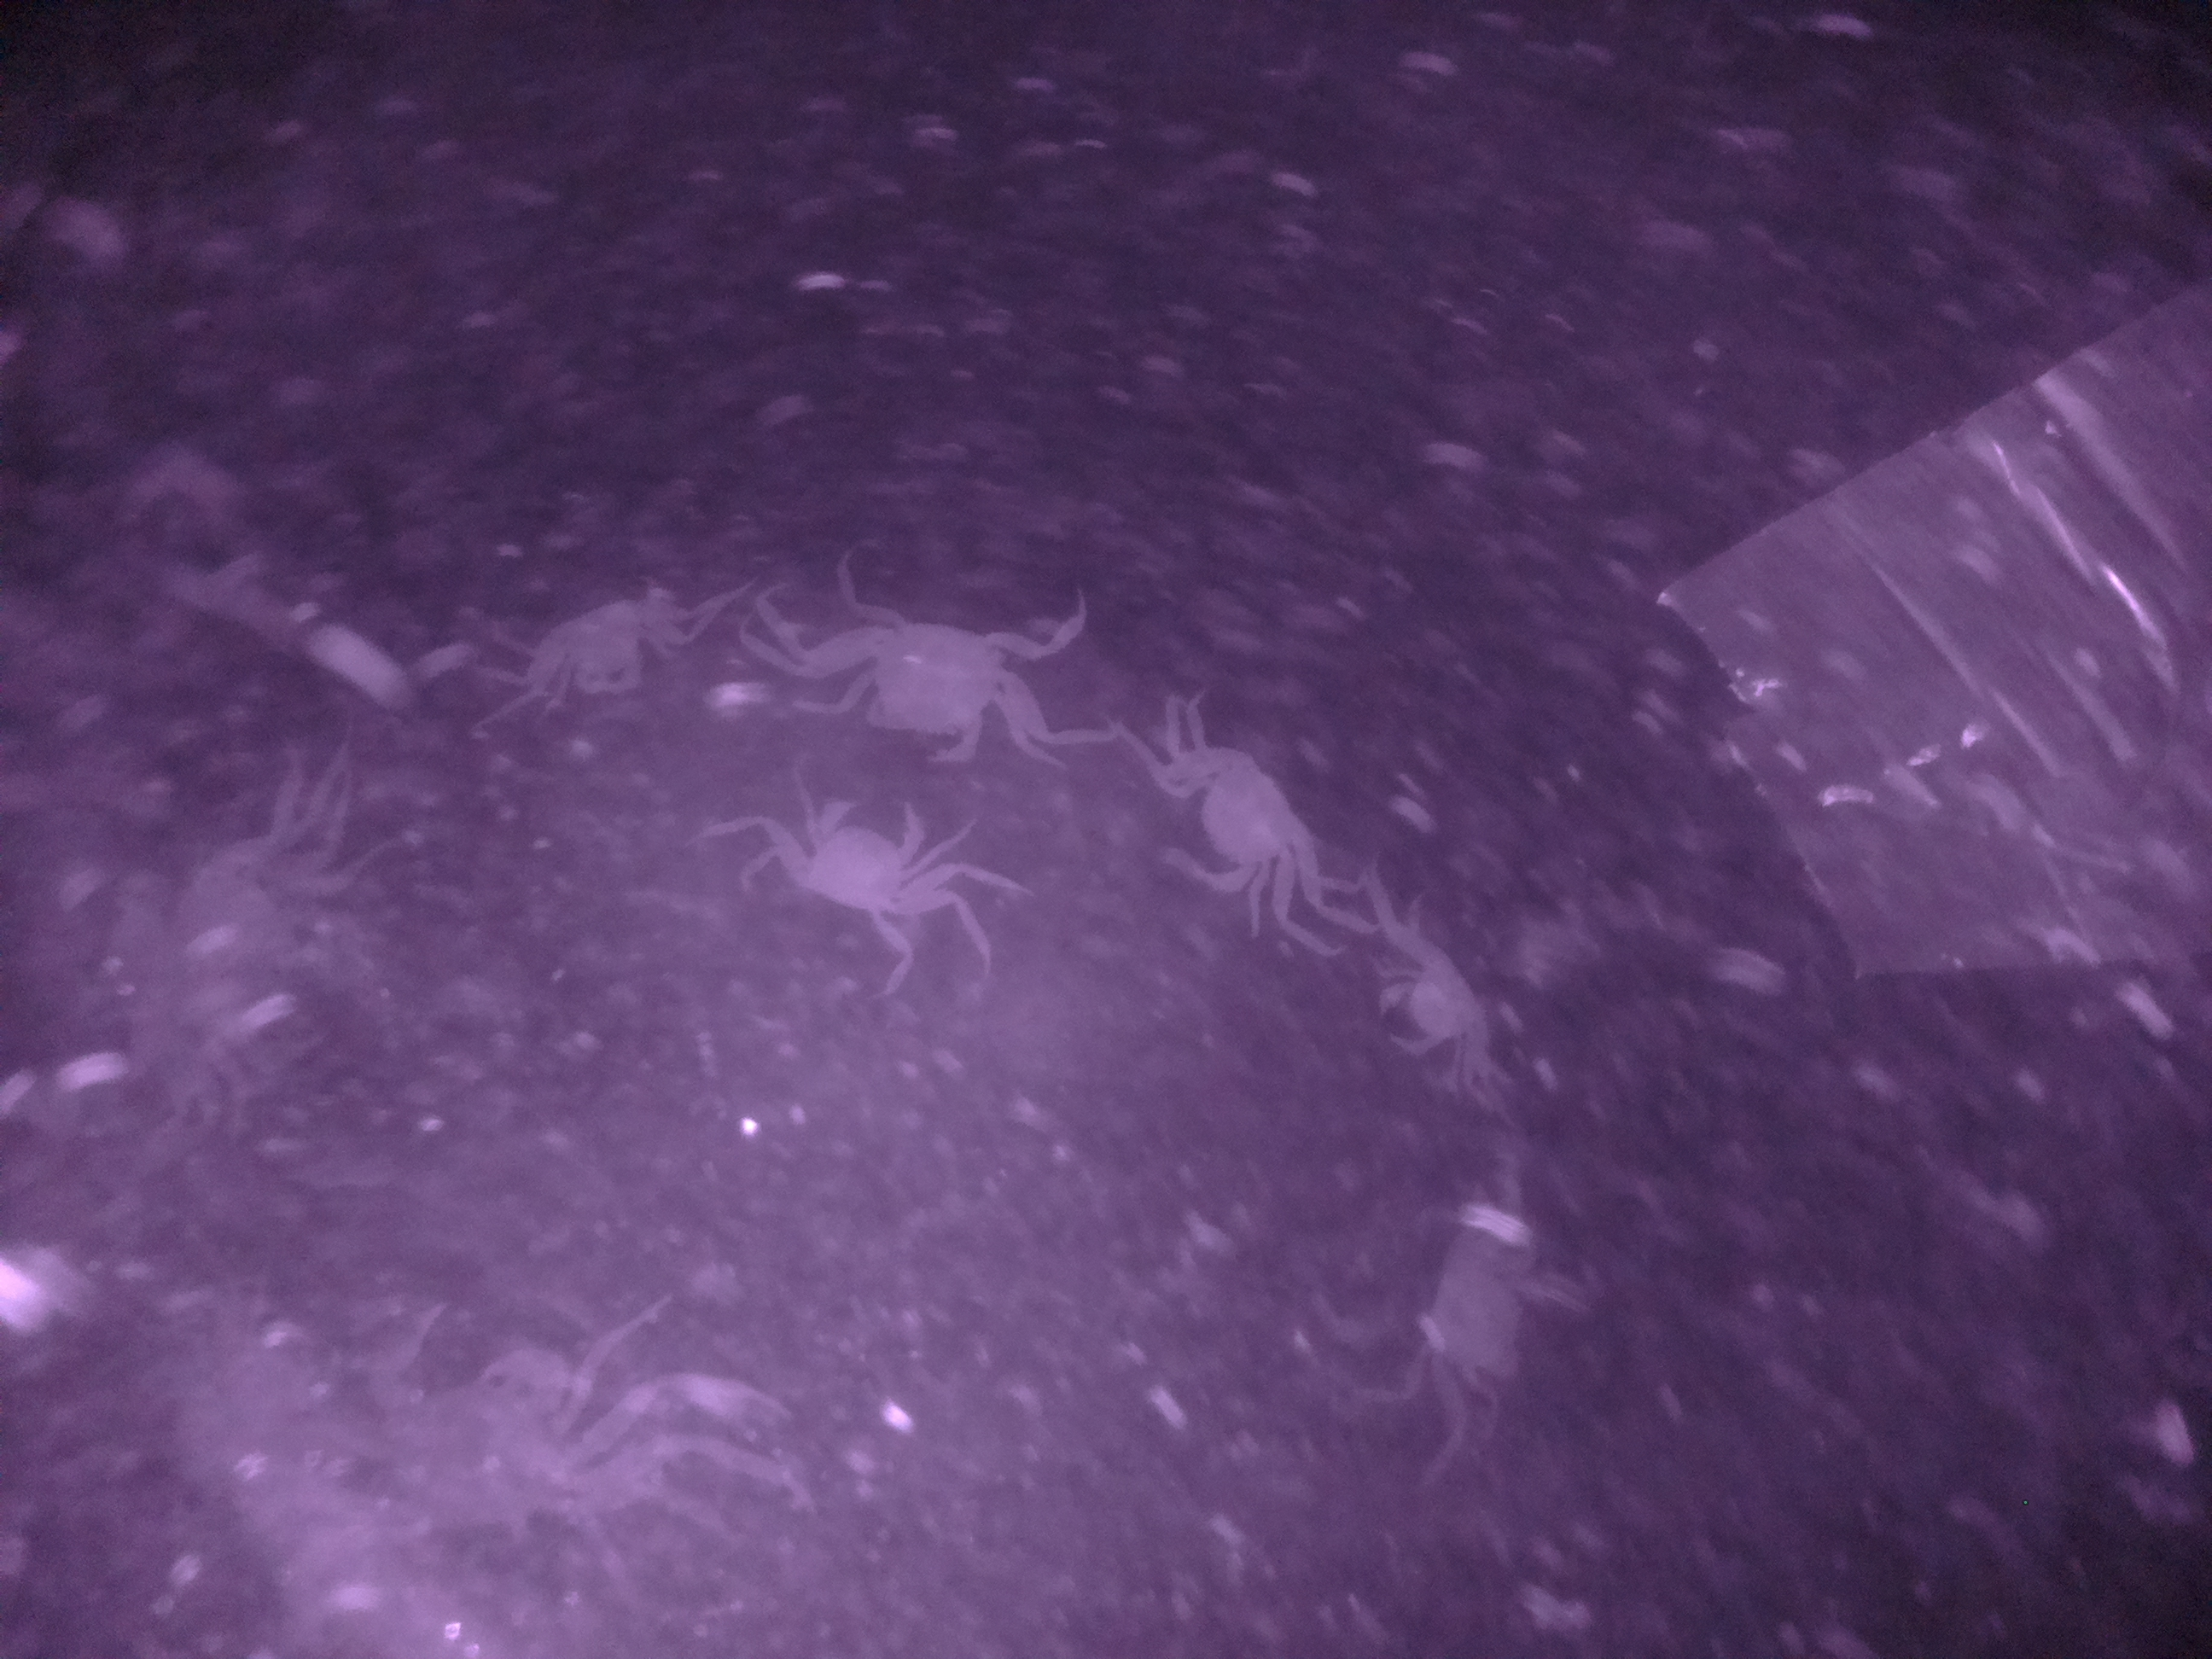Crab: (815, 592, 1038, 767), (1153, 721, 1320, 918), (765, 796, 935, 927), (1374, 939, 1512, 1070)
